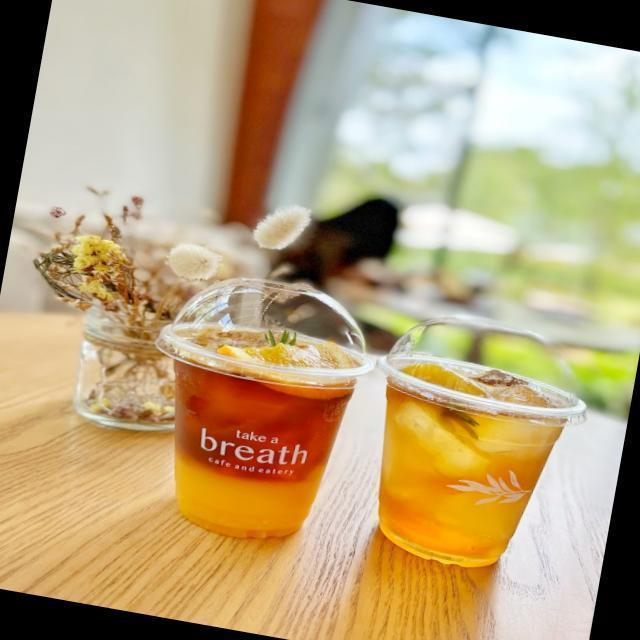cup: (148, 253, 358, 535), (393, 297, 596, 569)
